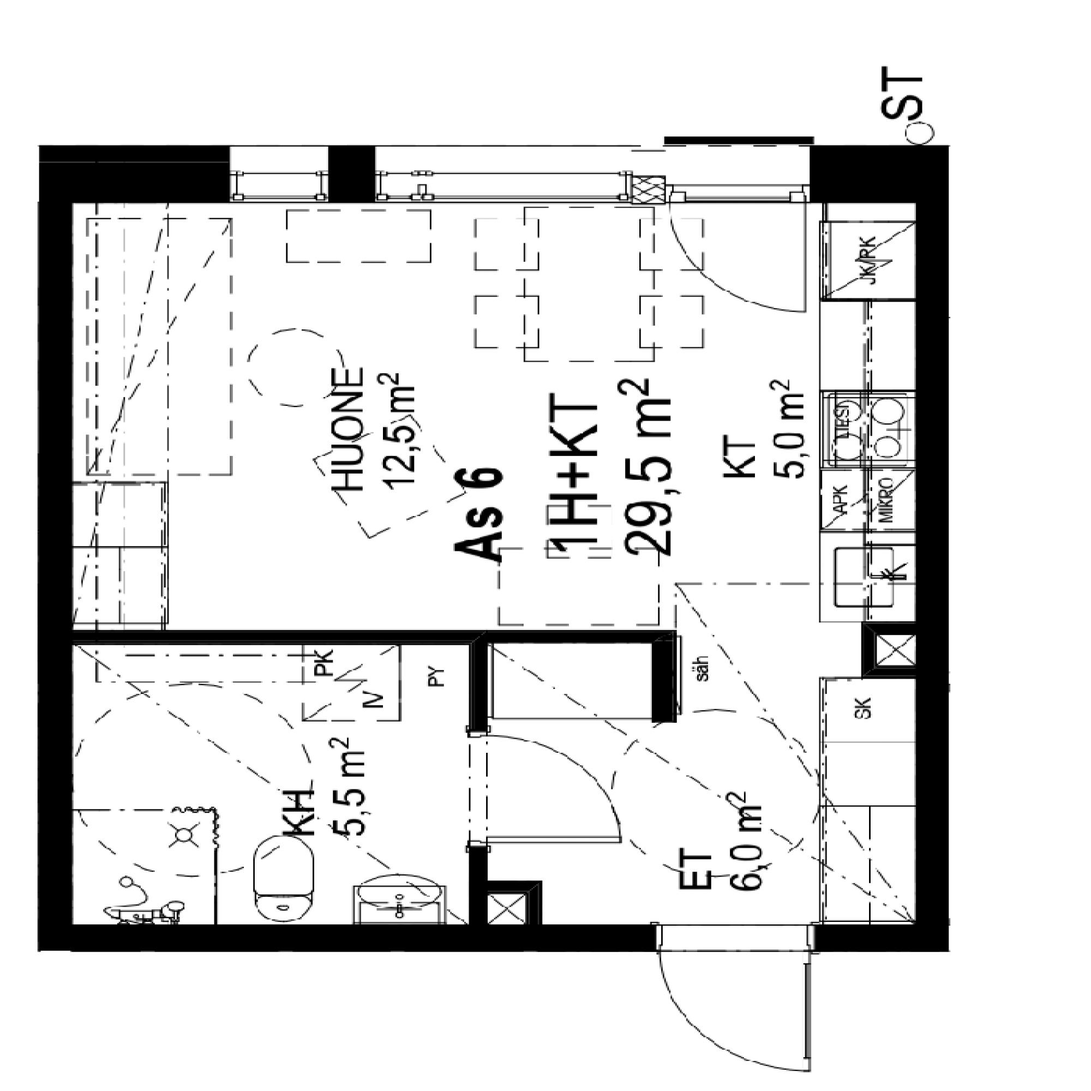wall: (38, 145, 948, 202), (38, 145, 73, 952), (38, 924, 948, 952), (917, 145, 948, 952), (73, 631, 678, 643), (470, 643, 488, 924), (862, 622, 917, 678), (487, 881, 543, 924), (652, 631, 677, 722)
